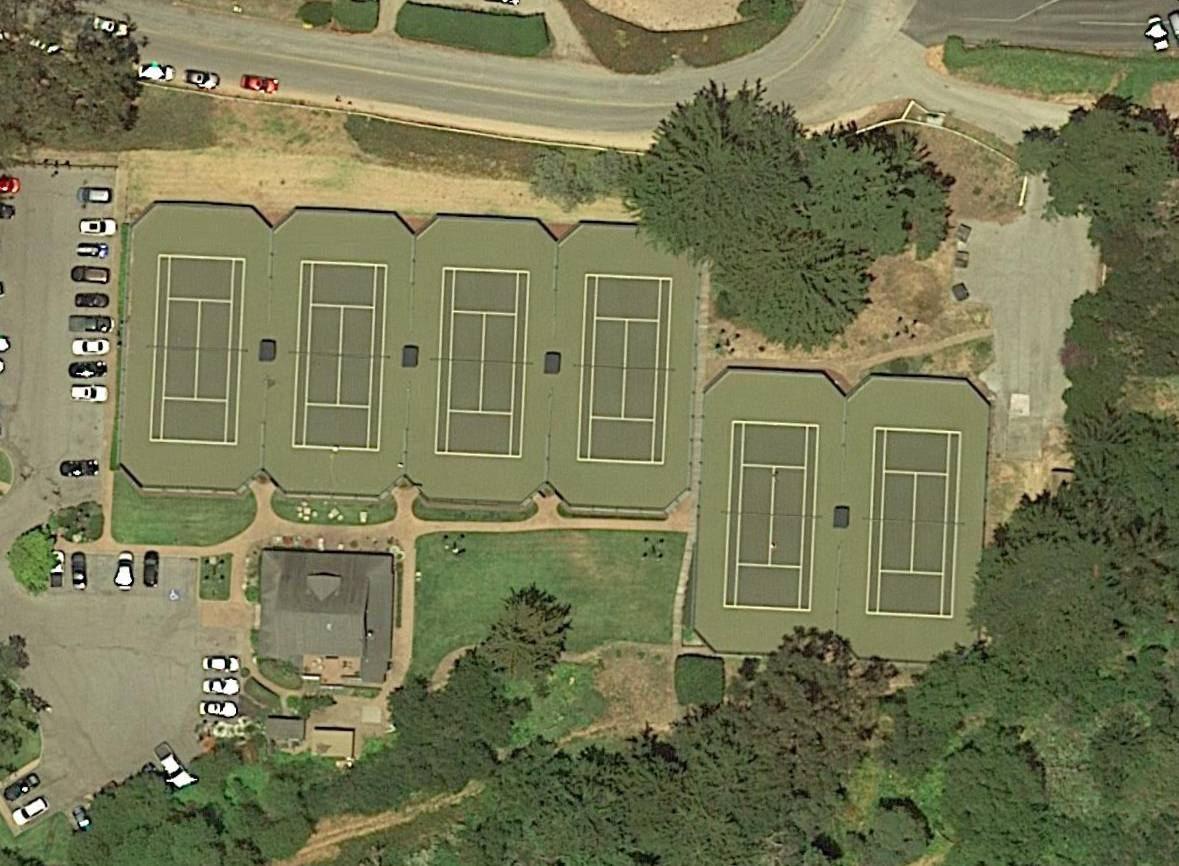small vehicle: (151, 740, 196, 793), (10, 795, 51, 828), (2, 772, 40, 804), (86, 14, 131, 41), (1145, 14, 1171, 52), (69, 314, 116, 335), (67, 359, 109, 380), (239, 75, 279, 96), (78, 218, 117, 238), (70, 265, 109, 285), (60, 459, 99, 478), (182, 70, 220, 89), (46, 551, 65, 589), (69, 385, 108, 403), (75, 241, 110, 261), (202, 678, 240, 696), (138, 64, 174, 83), (117, 552, 134, 591), (141, 553, 159, 589), (200, 702, 238, 719), (202, 657, 241, 673), (72, 339, 110, 355), (76, 188, 110, 204), (72, 553, 86, 591), (76, 293, 108, 309)
tennis court: (722, 421, 821, 613), (149, 254, 247, 446), (433, 267, 531, 458), (292, 261, 389, 452), (865, 427, 962, 618), (577, 274, 674, 464)
